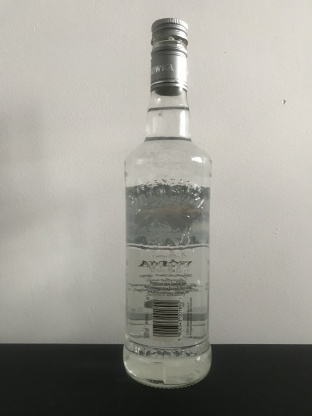nakretka: (149, 15, 189, 96)
